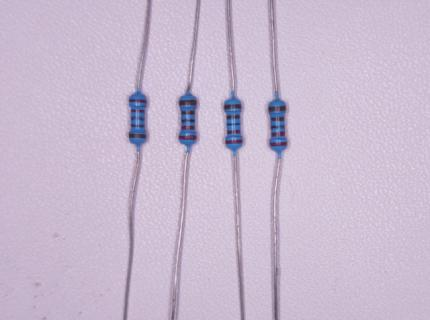Black band: (271, 125, 285, 129), (131, 116, 145, 120), (181, 119, 195, 122), (227, 123, 240, 126)
Brown band: (179, 100, 198, 106), (129, 133, 147, 138), (224, 104, 242, 109), (268, 106, 286, 111), (181, 110, 195, 115), (226, 115, 240, 120), (270, 117, 284, 121), (131, 124, 144, 128)
Red band: (269, 141, 288, 147), (271, 131, 285, 137), (129, 99, 147, 103), (225, 140, 243, 144), (181, 126, 195, 130), (131, 109, 145, 113), (179, 136, 197, 139), (227, 130, 240, 134)
